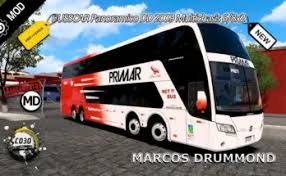bus: (59, 21, 264, 152)
